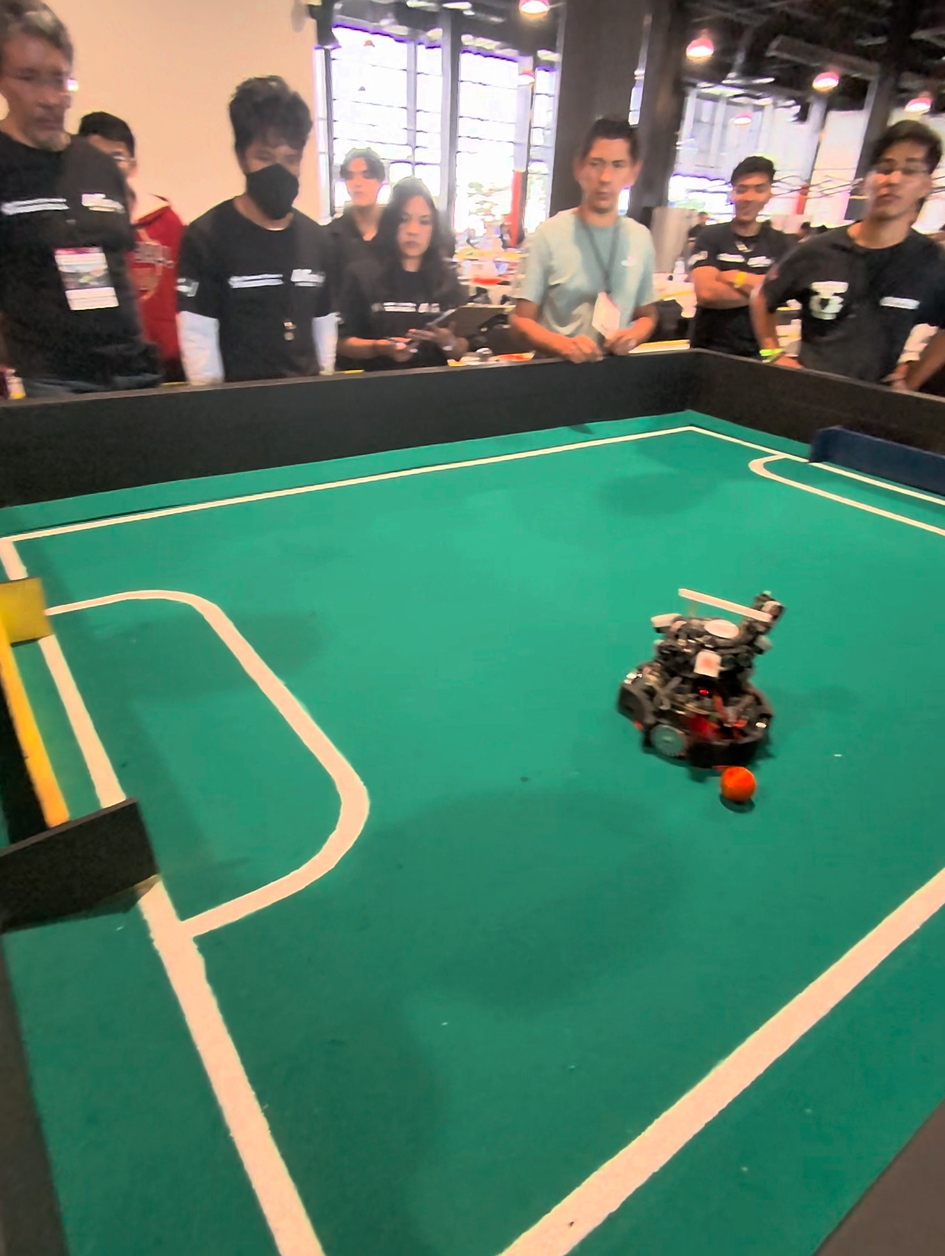Robot: (613, 568, 786, 784)
pelota: (717, 764, 759, 808)
